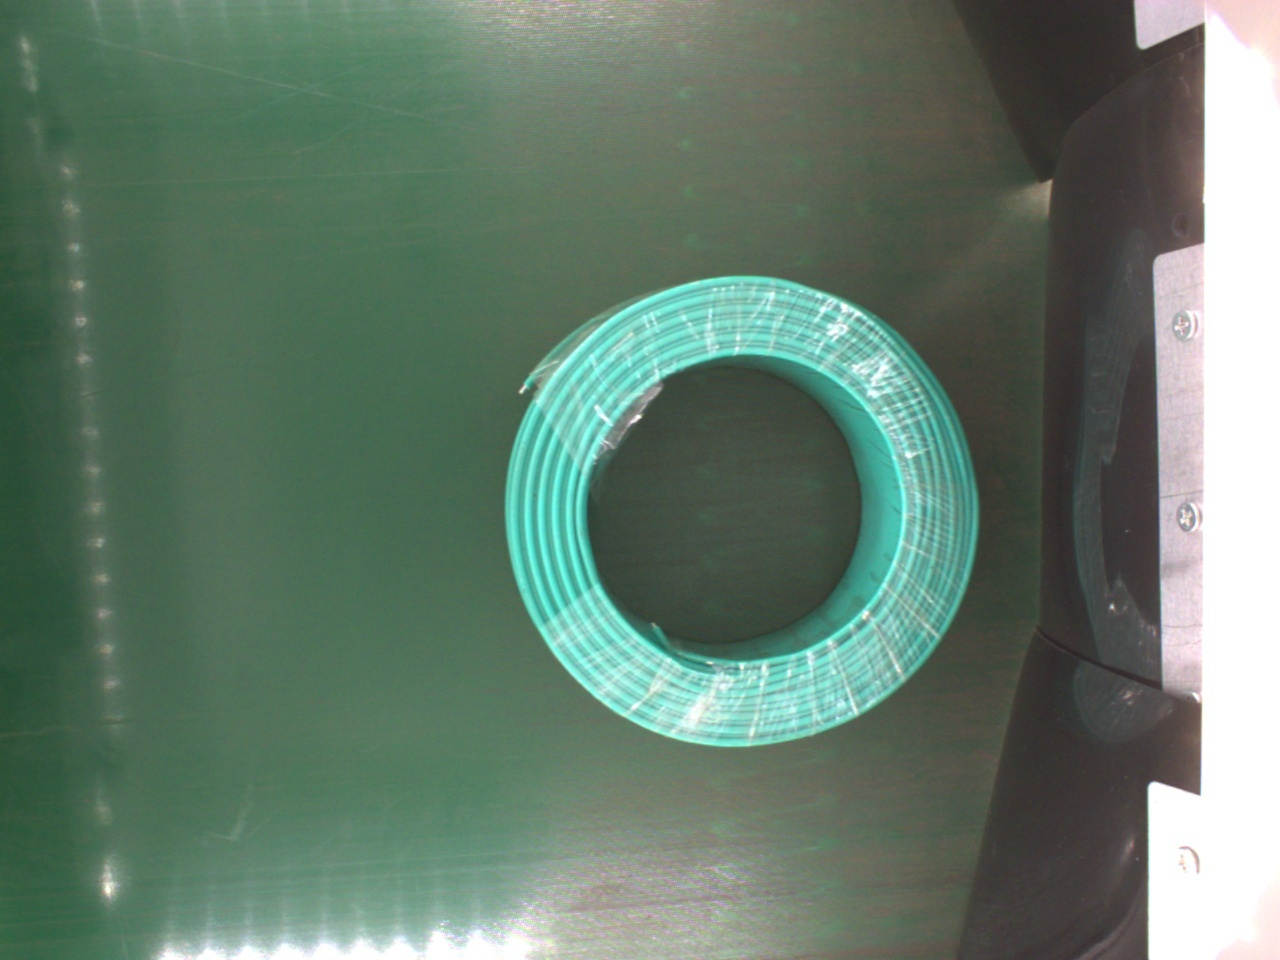green: (502, 273, 982, 755)
